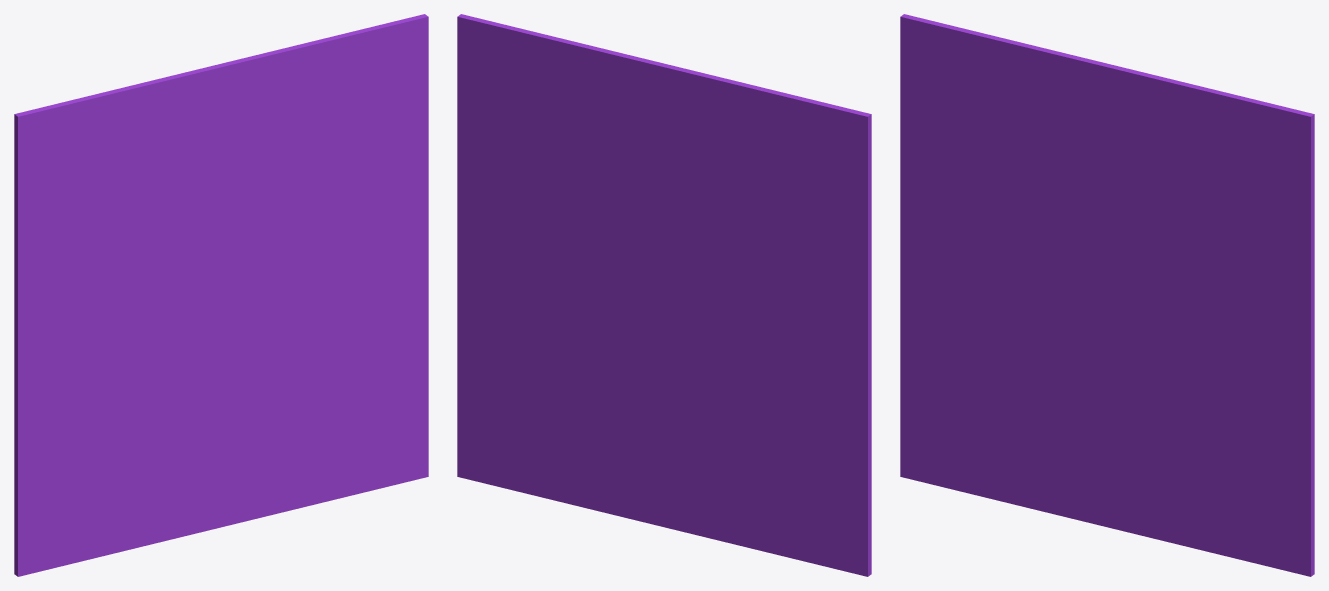
The model's file is Window_7_chunks.fbx.
3 renders of one model, left to right at view 1: azimuth 30°, elevation 25°; view 2: azimuth 150°, elevation 25°; view 3: azimuth 330°, elevation 25°, orthographic.
Visible parts, largest first — view 1: Window_7_1, Window_7_8, Window_7_4, Window_7_6, Window_7_5, Window_7_3, Window_7_7; view 2: Window_7_1, Window_7_8, Window_7_4, Window_7_6, Window_7_5, Window_7_3, Window_7_7, Window_7_0; view 3: Window_7_1, Window_7_8, Window_7_6, Window_7_4, Window_7_5, Window_7_3, Window_7_7.
Part boxes in pixels (x1,y1,x2,y2): Window_7_1: (201, 183, 428, 531); Window_7_8: (193, 14, 428, 189); Window_7_4: (14, 224, 134, 576); Window_7_6: (14, 70, 228, 258); Window_7_5: (14, 162, 221, 397); Window_7_3: (64, 373, 214, 565); Window_7_7: (165, 177, 415, 295); Window_7_1: (457, 187, 641, 521); Window_7_8: (457, 14, 691, 188); Window_7_4: (753, 226, 871, 576); Window_7_6: (665, 70, 871, 257); Window_7_5: (664, 162, 871, 392); Window_7_3: (671, 371, 822, 565); Window_7_7: (462, 176, 722, 295); Window_7_0: (605, 267, 683, 531); Window_7_1: (1084, 283, 1314, 576); Window_7_8: (1080, 57, 1314, 283); Window_7_6: (900, 14, 1110, 230); Window_7_4: (900, 129, 1016, 487); Window_7_5: (900, 65, 1103, 369); Window_7_3: (946, 354, 1097, 521); Window_7_7: (1047, 180, 1297, 294).
Size of the model in its own units: 1728 by 1851 by 27.2.
